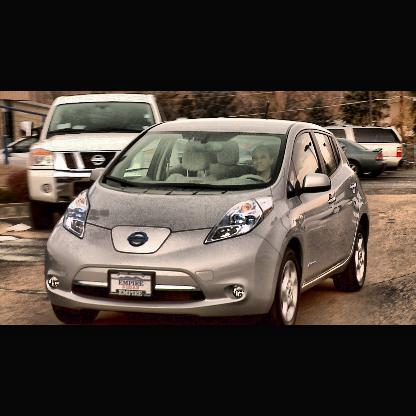Nissan Leaf Hatchback 2012: (44, 118, 371, 325)
